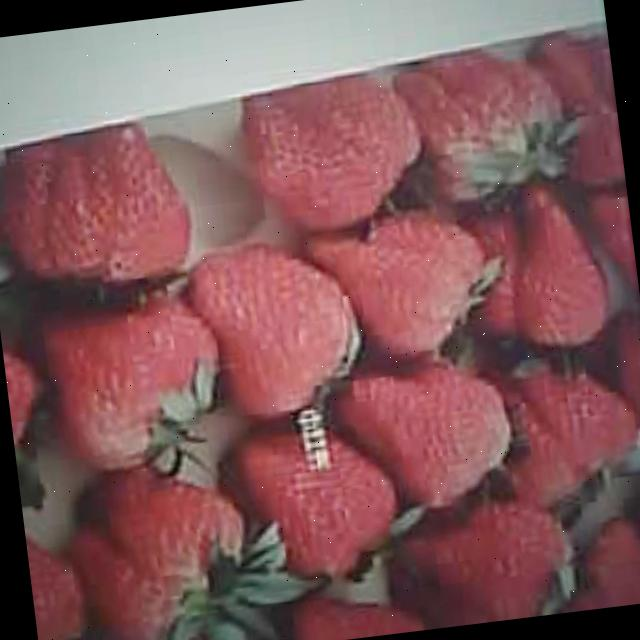strawberry: (227, 62, 428, 240), (189, 236, 365, 428), (335, 355, 516, 519), (234, 425, 403, 590)
